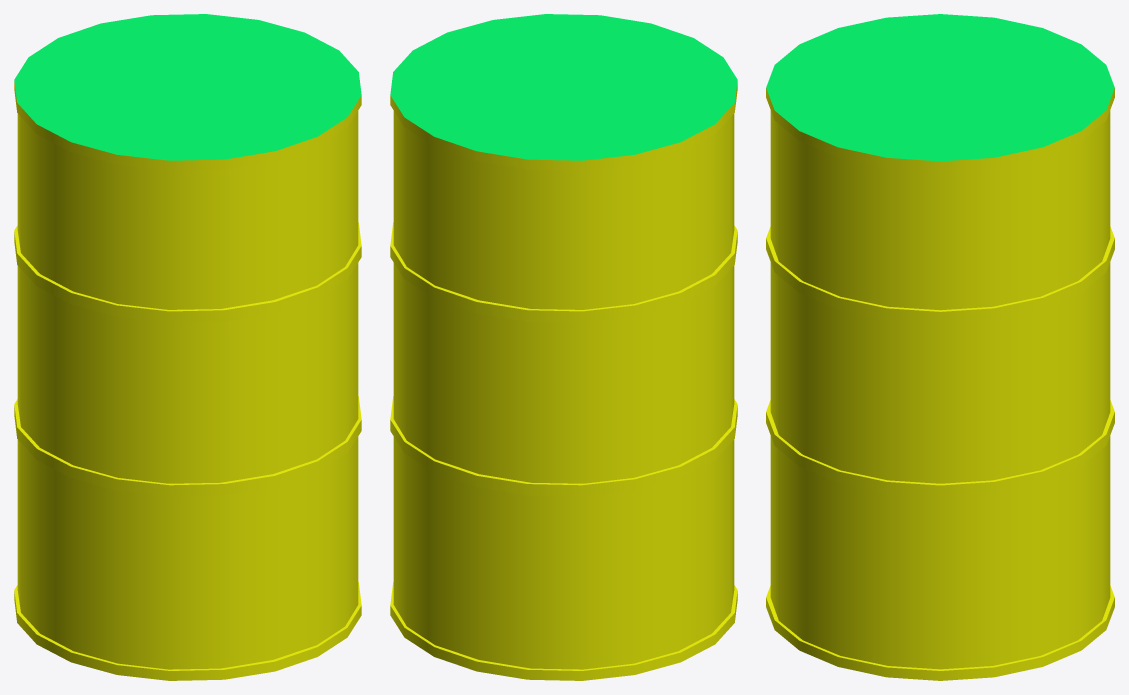
File: toxicBarrel.fbx
3 renders of one model, left to right at view 1: azimuth 30°, elevation 25°; view 2: azimuth 150°, elevation 25°; view 3: azimuth 270°, elevation 25°, orthographic.
Visible parts, largest first — view 1: pCylinder1; view 2: pCylinder1; view 3: pCylinder1.
Boxes of the visible parts, x1,y1,x2,y2 form: pCylinder1: [14, 14, 361, 680]; pCylinder1: [390, 14, 737, 680]; pCylinder1: [766, 14, 1114, 680].
Bounding box in the file's own units: 1.43 × 2.35 × 1.43.
